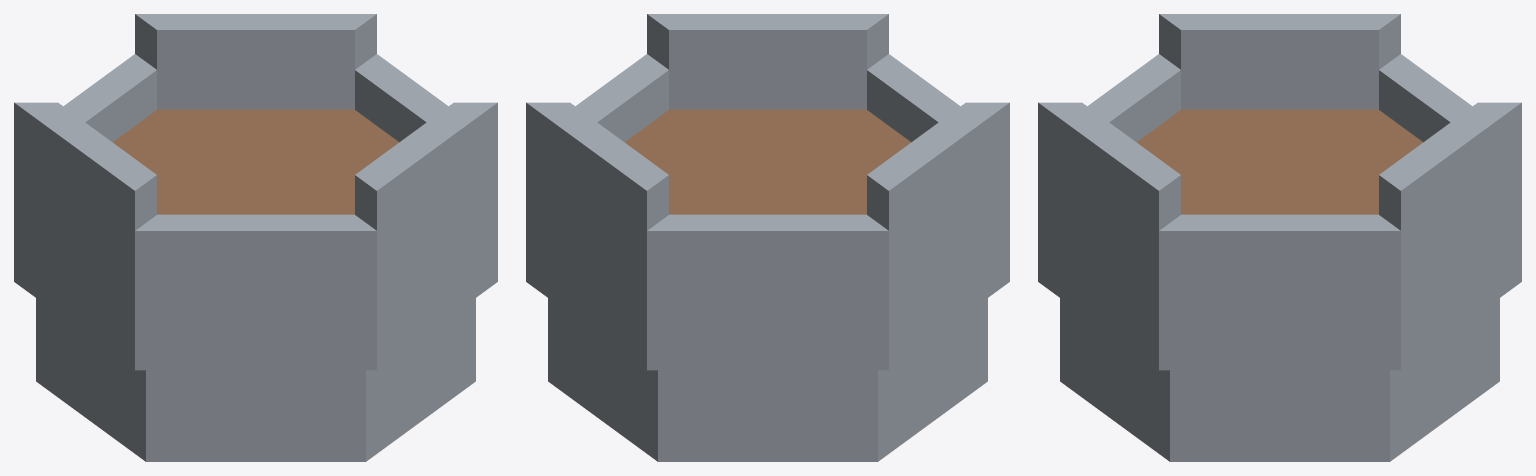
The model's file is roof4.fbx.
3 renders of one model, left to right at view 1: azimuth 30°, elevation 25°; view 2: azimuth 150°, elevation 25°; view 3: azimuth 270°, elevation 25°, orthographic.
Visible parts, largest first — view 1: Cylinder; view 2: Cylinder; view 3: Cylinder.
Part boxes in pixels (x1,y1,x2,y2): Cylinder: [14, 14, 497, 461]; Cylinder: [526, 14, 1009, 461]; Cylinder: [1038, 14, 1521, 461].
Size of the model in its own units: 1.91 by 1.4 by 2.2.
